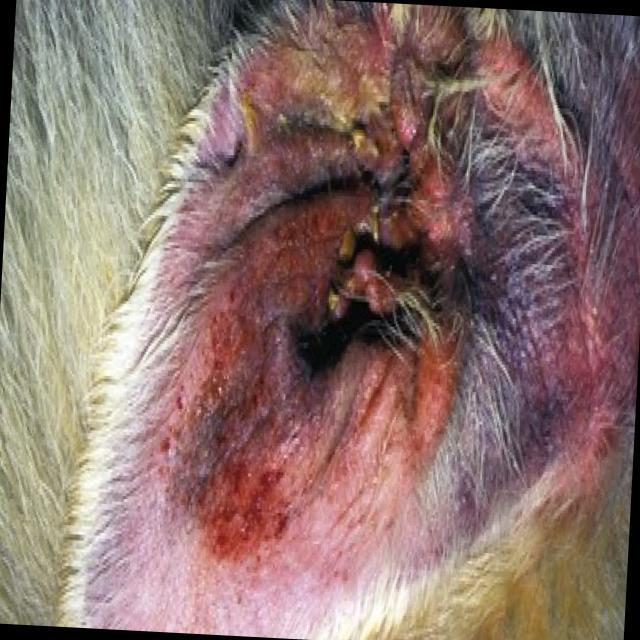fungal infection: (160, 310, 307, 570), (221, 29, 436, 164), (290, 181, 429, 278), (368, 333, 468, 458), (473, 37, 566, 121), (417, 176, 474, 249)
